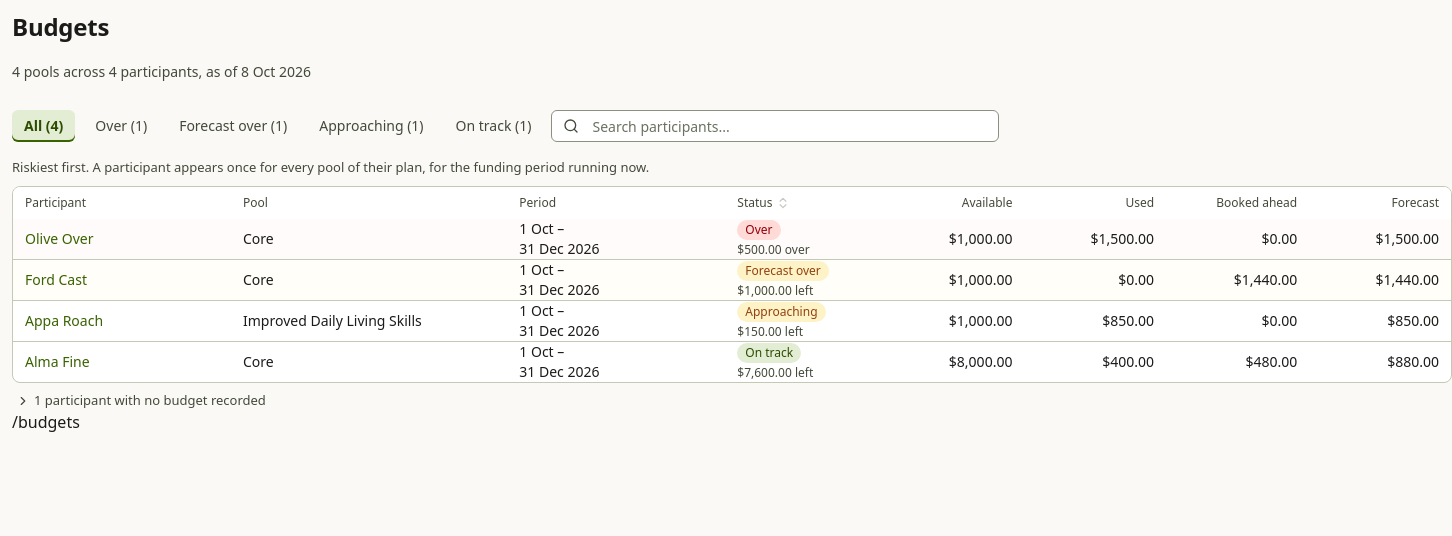
Test case: BudgetsPage: the participants with no budget in force › says when a plan starts for a participant whose plan is recorded for later, with the Funding tab as its link
The width and height of the screenshot is (1452, 536).
Click the button "1 participant with no budget recorded" at (141, 401), box [12,391,270,410]
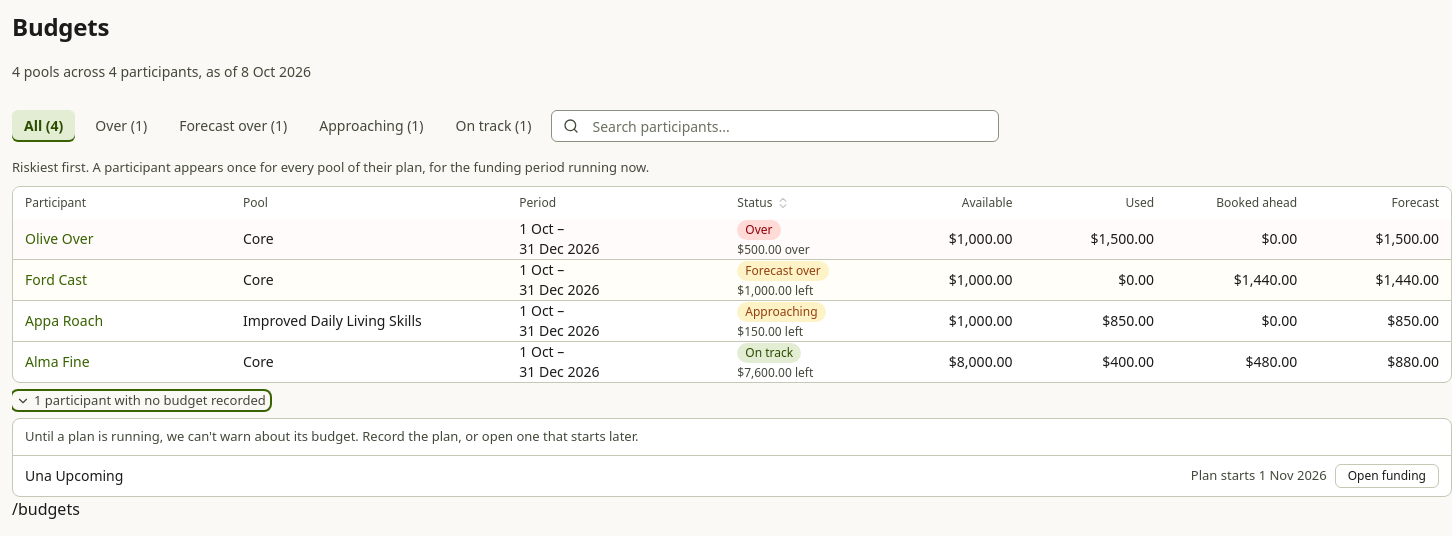
Expected: the text "Una Upcoming" is shown, [25,466,123,486]
Expected: the text "Plan starts 1 Nov 2026" is shown, [1191,466,1327,486]
Expected: the text "Until a plan is running, we can't warn about its budget. Record the plan, or open one that starts later." is shown, [25,427,638,445]
